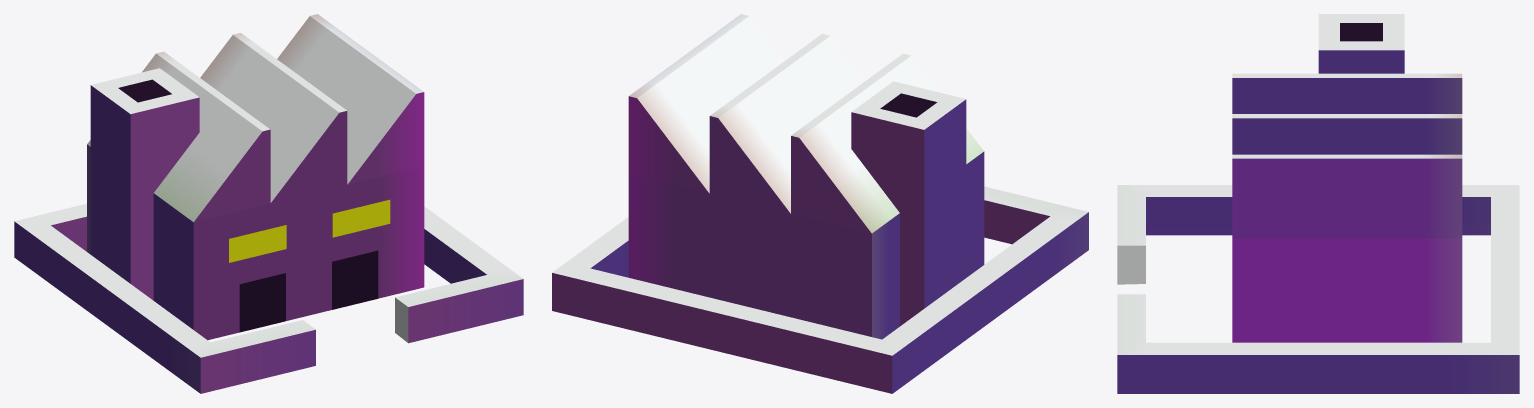
The model's file is Factory.BlackHole.Snow.glb.
3 renders of one model, left to right at view 1: azimuth 30°, elevation 25°; view 2: azimuth 150°, elevation 25°; view 3: azimuth 270°, elevation 25°, orthographic. The views are drawn at different scales.
Parts seen in each view (by area): view 1: Factory.BlackHole.Snow; view 2: Factory.BlackHole.Snow; view 3: Factory.BlackHole.Snow.
Part boxes in pixels (<box>): Factory.BlackHole.Snow: <box>14,14,523,393</box>; Factory.BlackHole.Snow: <box>552,14,1088,393</box>; Factory.BlackHole.Snow: <box>1117,14,1519,393</box>.
Bounding box in the file's own units: 2.8 × 1.71 × 2.8.
2 materials, 1 textured.
